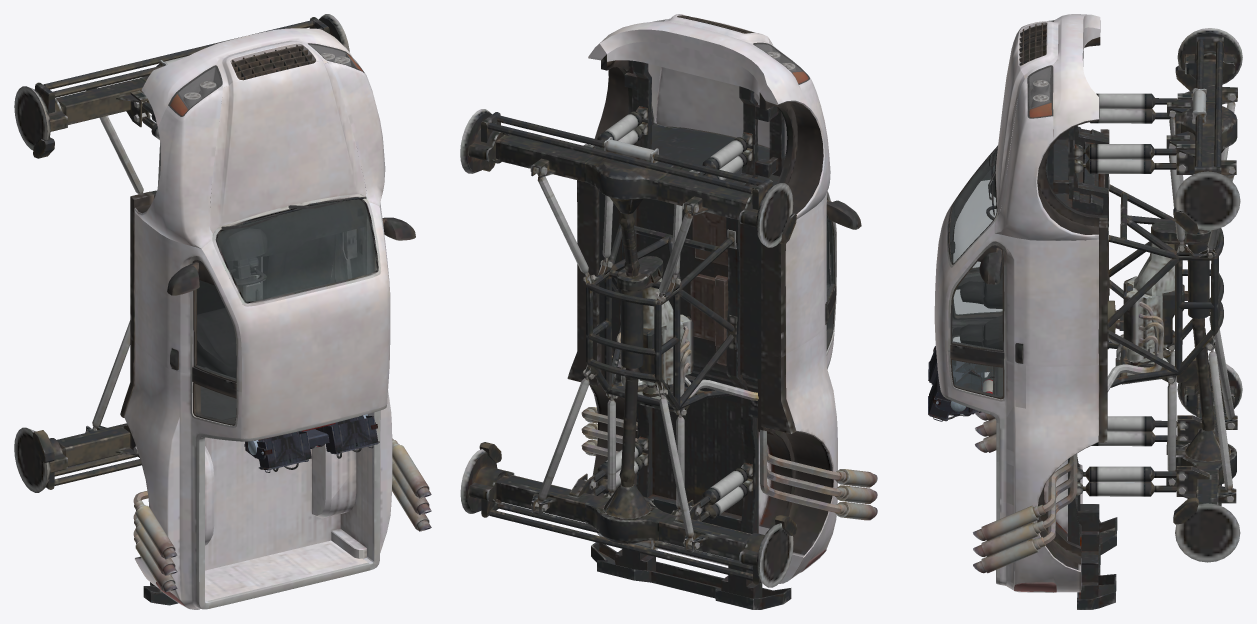
File: monster_truck.obj
3 views of the same model, side by side, from view 1: azimuth 30°, elevation 25°; view 2: azimuth 150°, elevation 25°; view 3: azimuth 270°, elevation 25° (orthographic). The views are drawn at different scales.
Visible parts, largest first — view 1: Monster_TruckTextured.004; view 2: Monster_TruckTextured.004; view 3: Monster_TruckTextured.004.
Boxes of the visible parts, <box> form: Monster_TruckTextured.004: <box>14,14,431,609</box>; Monster_TruckTextured.004: <box>460,14,877,609</box>; Monster_TruckTextured.004: <box>928,14,1242,609</box>.
Size of the model in its own units: 2.98 by 5.09 by 2.9.
10 materials, 10 textured.
